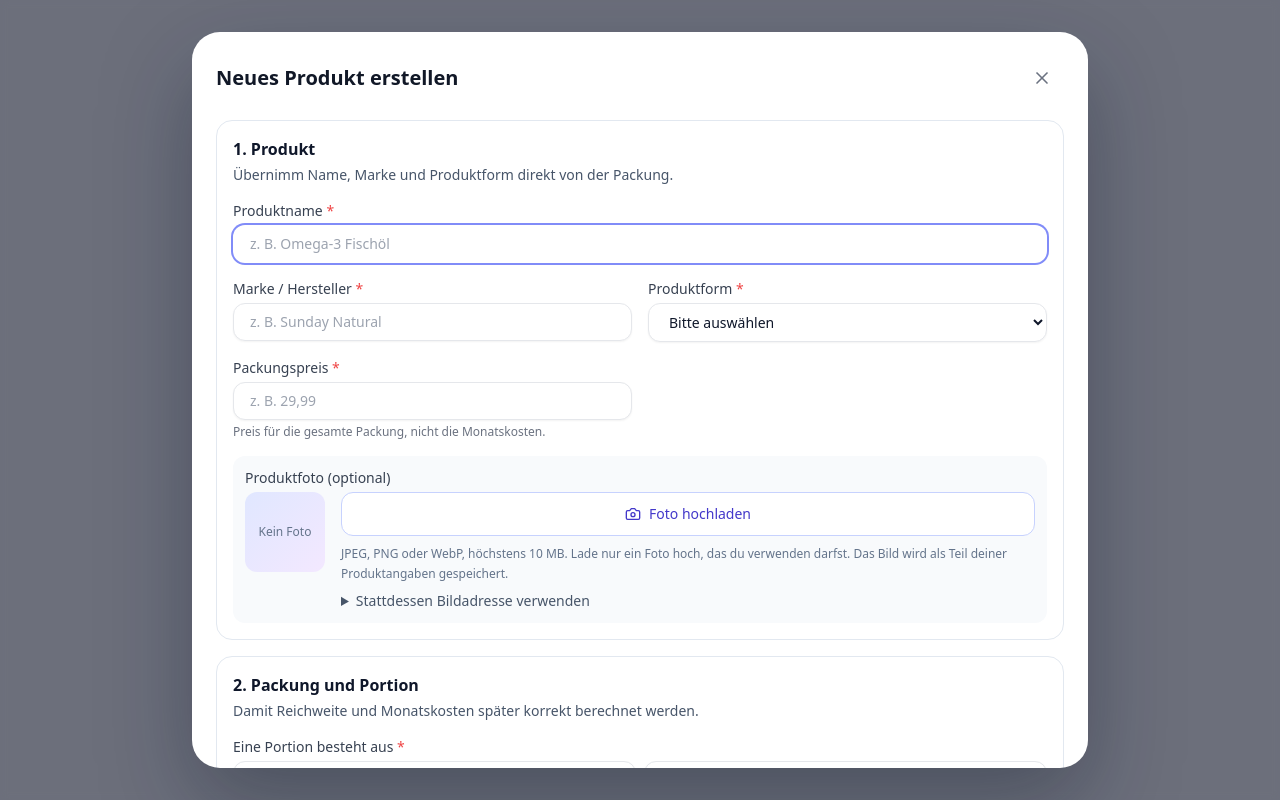
it: UserProductForm sub-ingredient roundtrip › schließt mit Escape zuerst nur den Foto-Dialog und behält das Produktformular
Click the button "Foto hochladen" at (688, 514), box [341,492,1035,536]
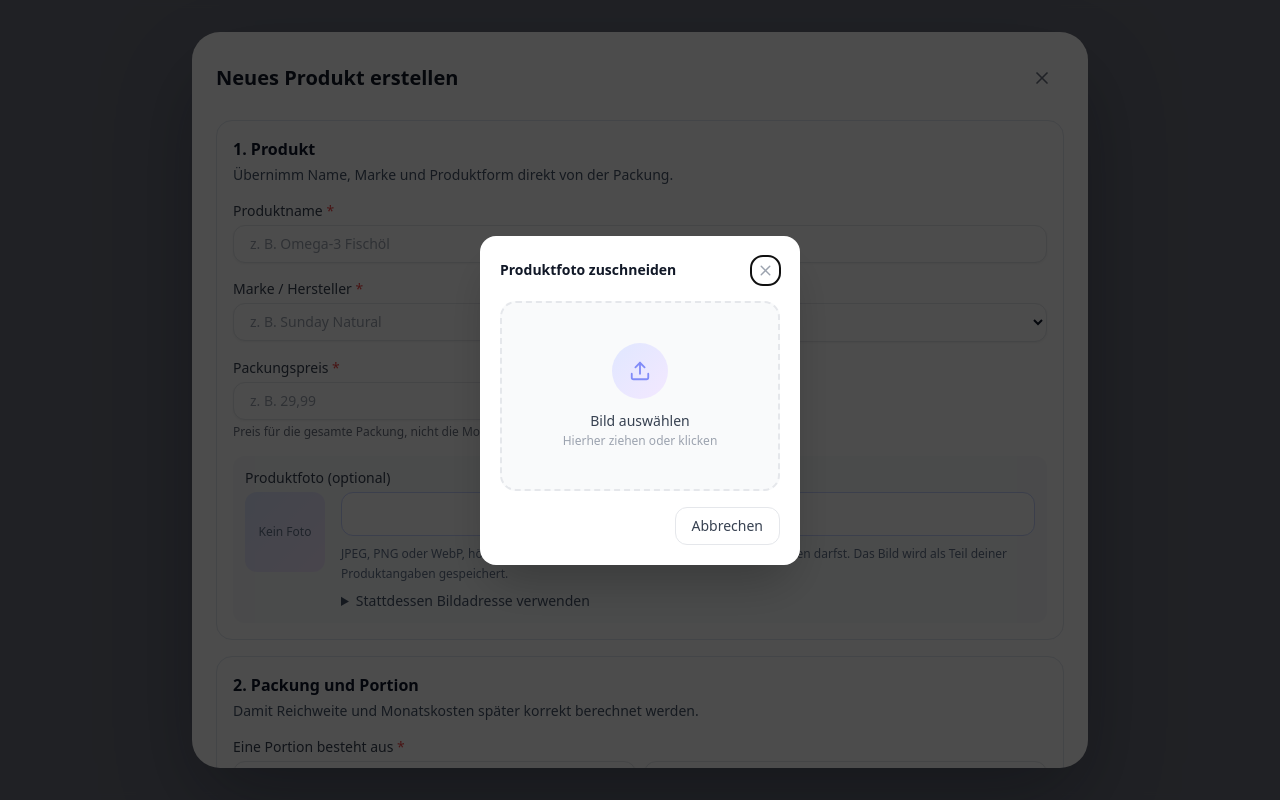
expect the dialog "Produktfoto zuschneiden" is shown: met
Press Escape
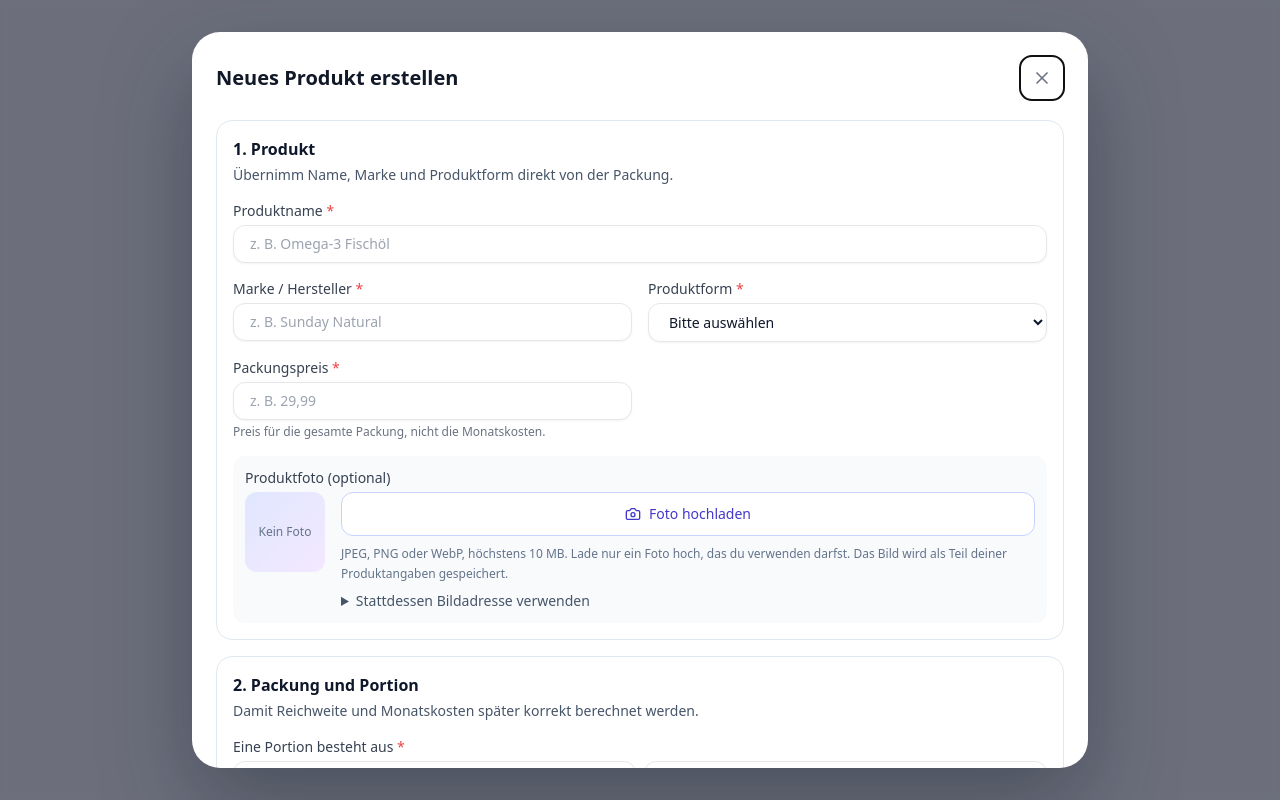
expect the heading "Produktfoto zuschneiden" is gone: met
